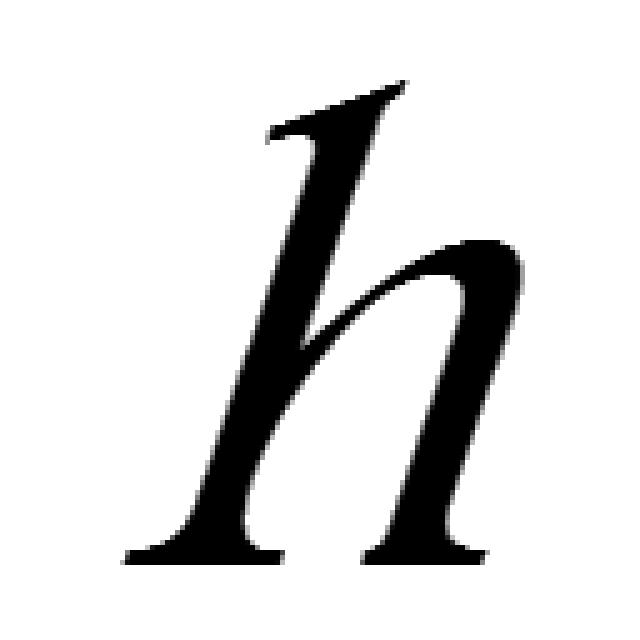H: (120, 80, 520, 570)
